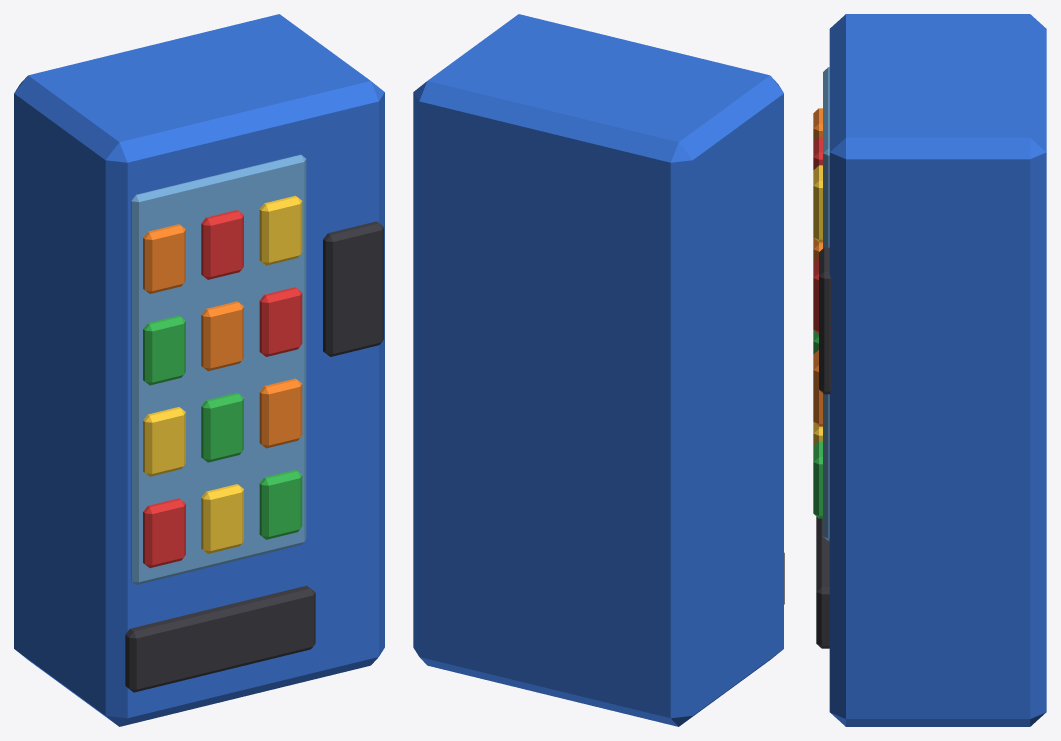
File: VendingMachine.fbx
The picture shows the model from 3 angles, left to right: view 1: azimuth 30°, elevation 25°; view 2: azimuth 150°, elevation 25°; view 3: azimuth 270°, elevation 25°; orthographic projection.
Visible parts, largest first — view 1: VendingMachine; view 2: VendingMachine; view 3: VendingMachine.
Part boxes in pixels (<box>): VendingMachine: <box>14,14,384,726</box>; VendingMachine: <box>413,14,784,726</box>; VendingMachine: <box>813,14,1046,726</box>.
Bounding box in the file's own units: 2.4 × 4.8 × 1.72.
Materials: 1 (1 with a texture image).
